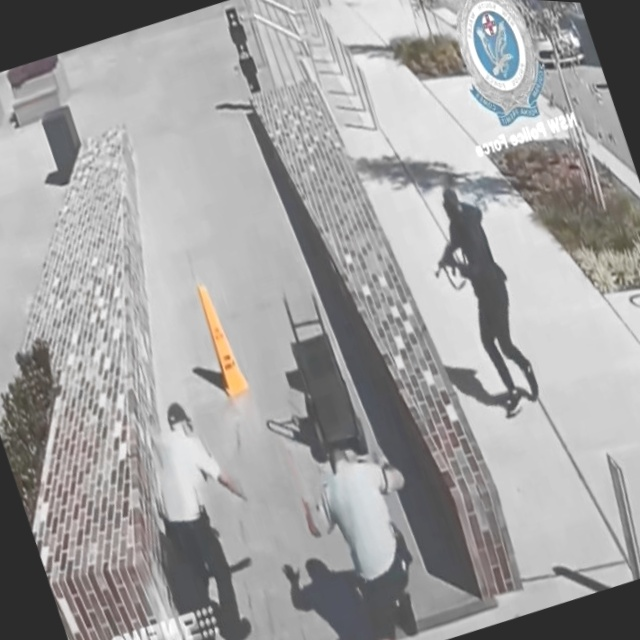gun: (416, 229, 482, 297)
